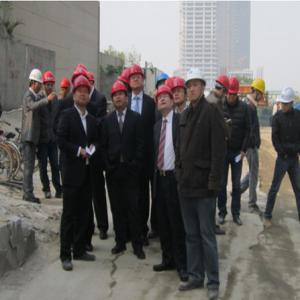blue: (156, 72, 170, 91)
red: (110, 82, 130, 111), (73, 76, 91, 106), (156, 86, 175, 114), (129, 65, 146, 94), (172, 78, 188, 107), (215, 74, 230, 98), (227, 76, 240, 102), (44, 71, 56, 95), (120, 70, 131, 91), (61, 77, 72, 97)
white: (186, 68, 207, 104), (282, 88, 296, 114), (30, 69, 44, 93), (277, 99, 281, 106)
yellow: (251, 79, 267, 103)
